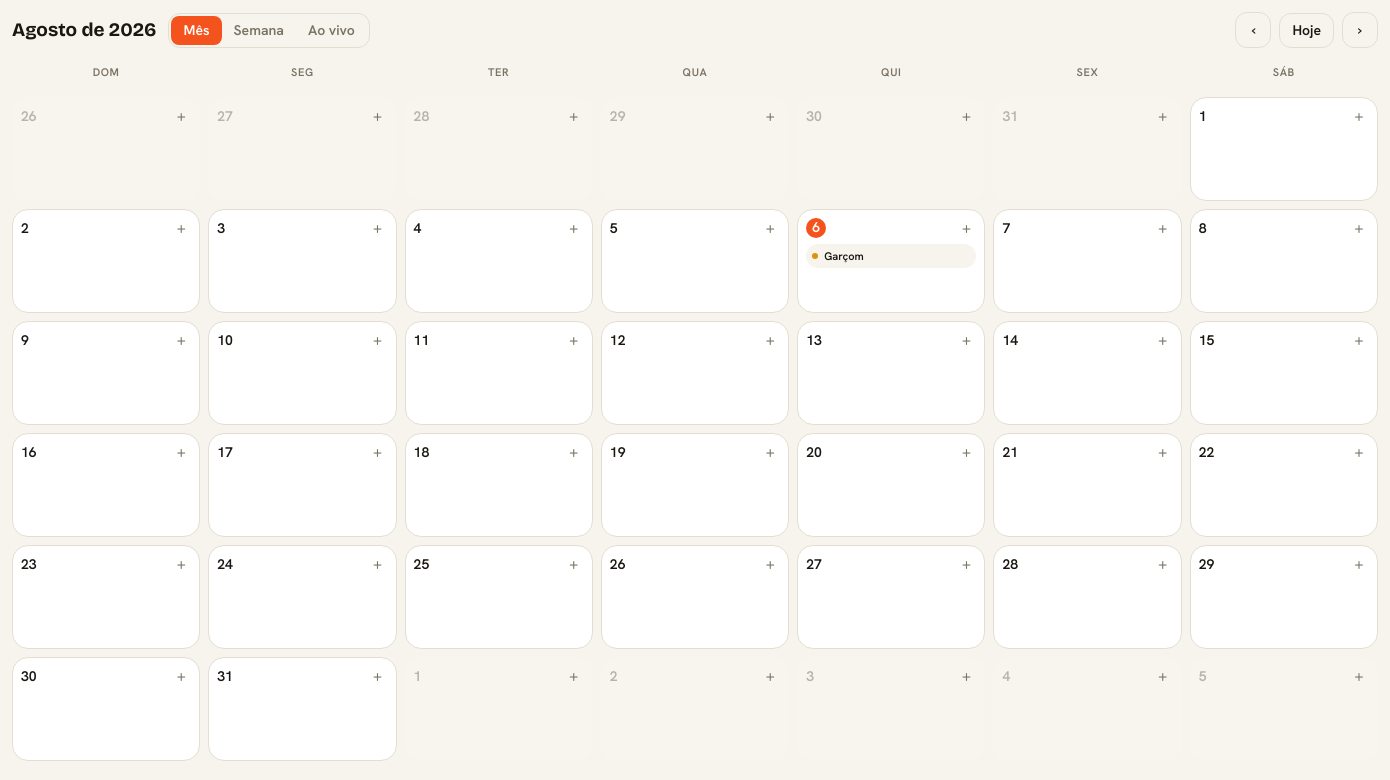
Test: EscalaPage › reseta o checkbox de termos ao cancelar, mesmo tendo marcado antes
Expected: the heading "Agosto de 2026" is shown, [12,16,156,44]
Click the button "Semana" at (259, 30), box [222,16,296,44]
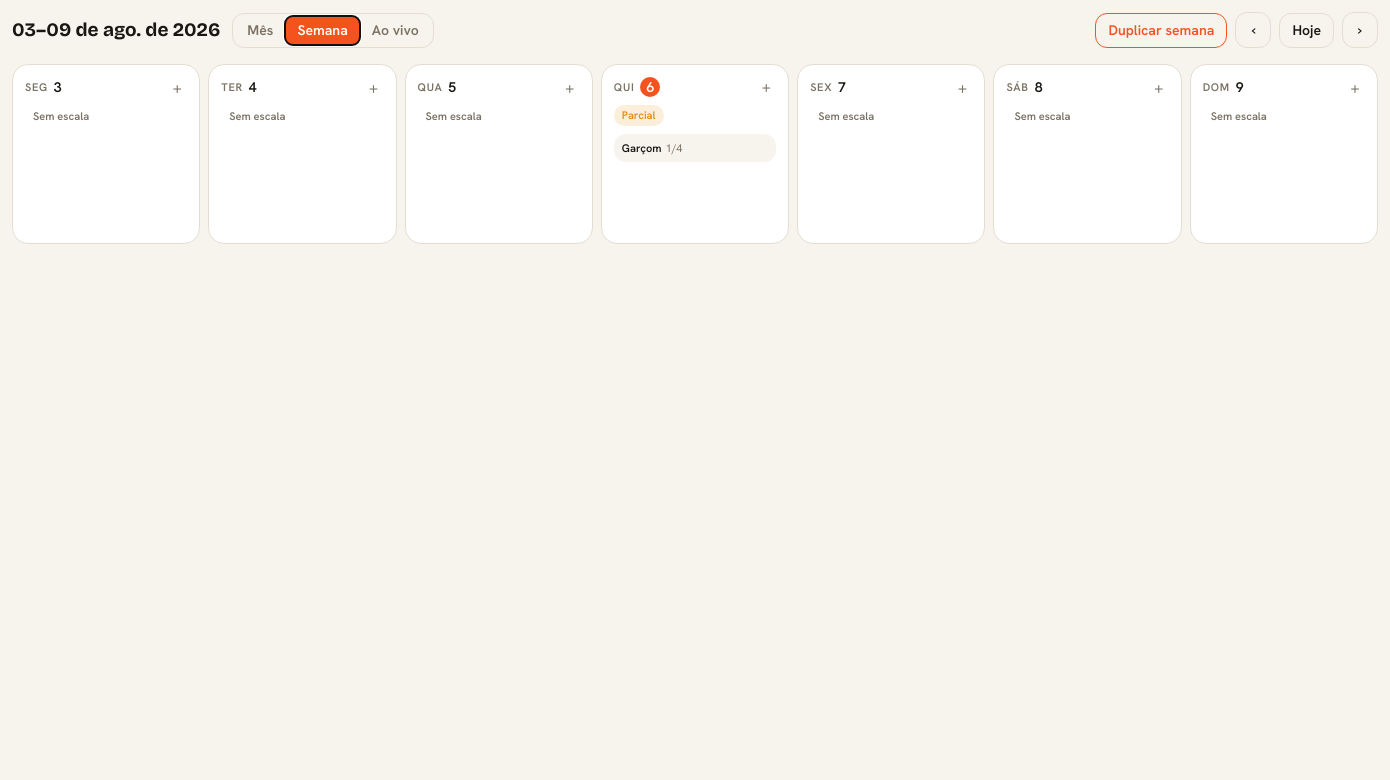
Click the button "Duplicar semana" at (1162, 30), box [1096,12,1228,48]
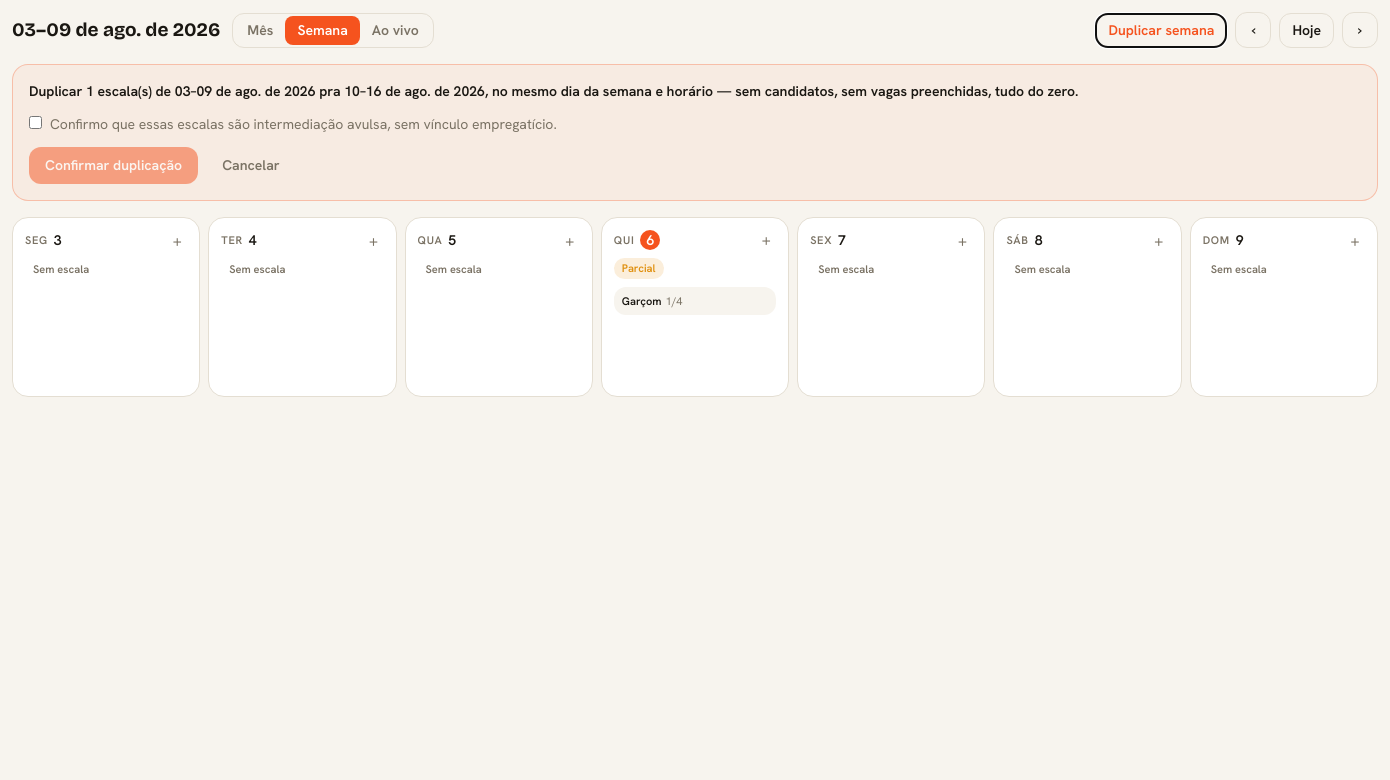
Click the checkbox at (36, 122), box [29,116,42,129]
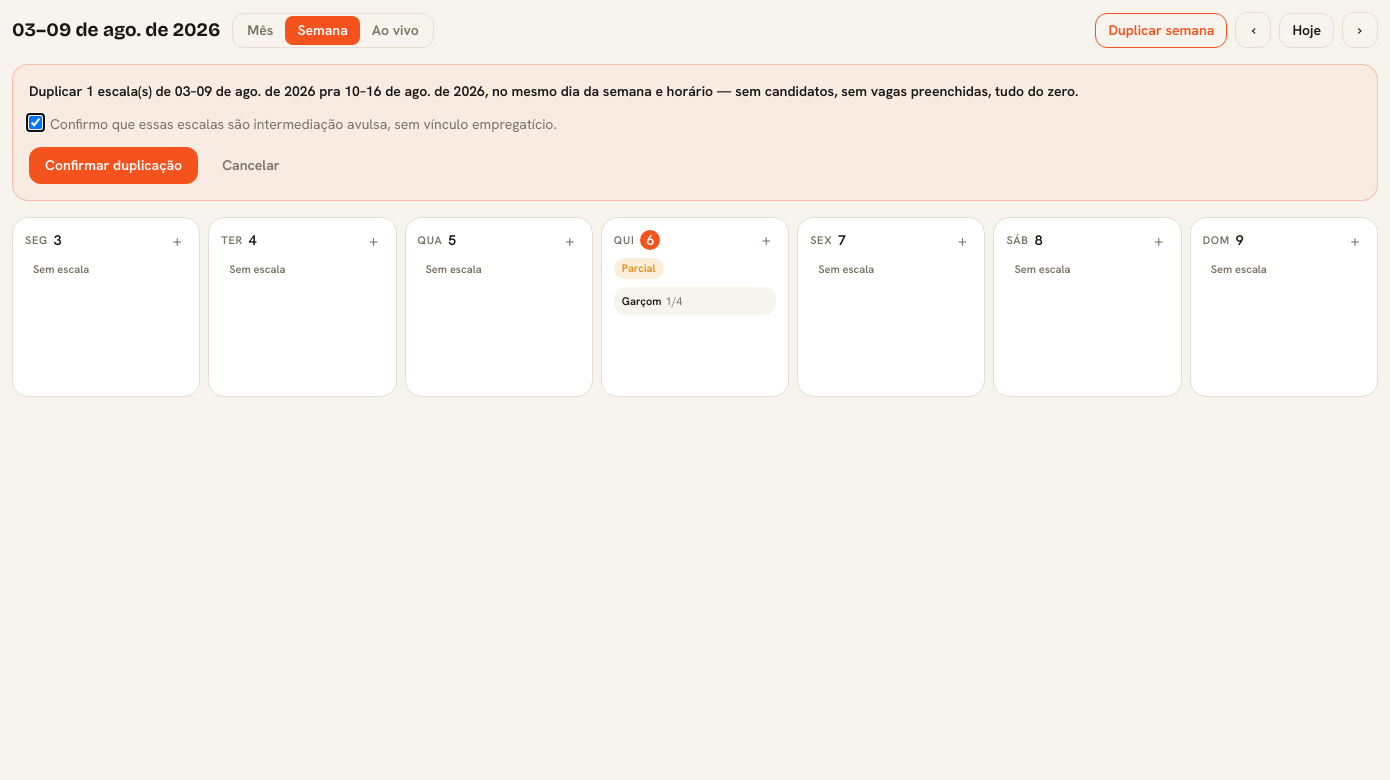
Click the button "Cancelar" at (251, 166), box [206,147,296,184]
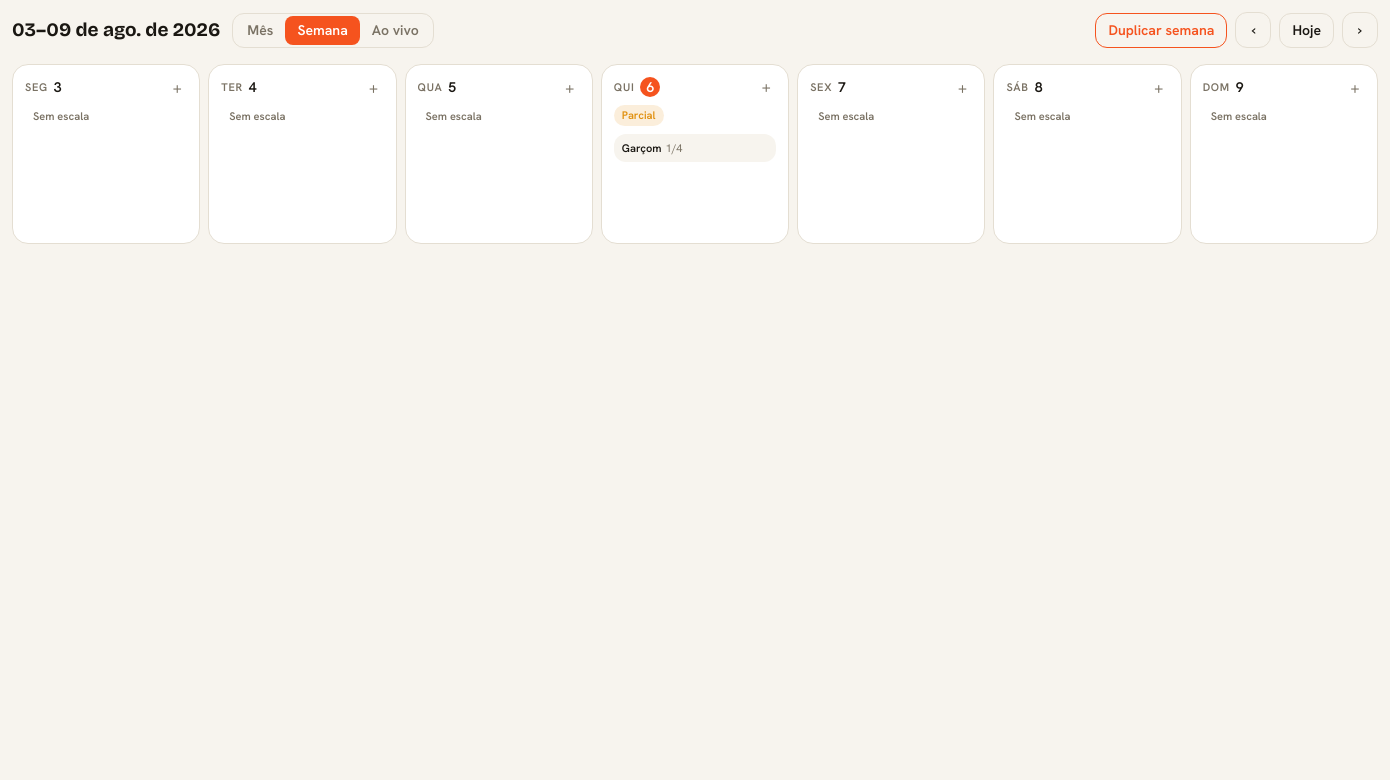
Click the button "Duplicar semana" at (1162, 30), box [1096,12,1228,48]
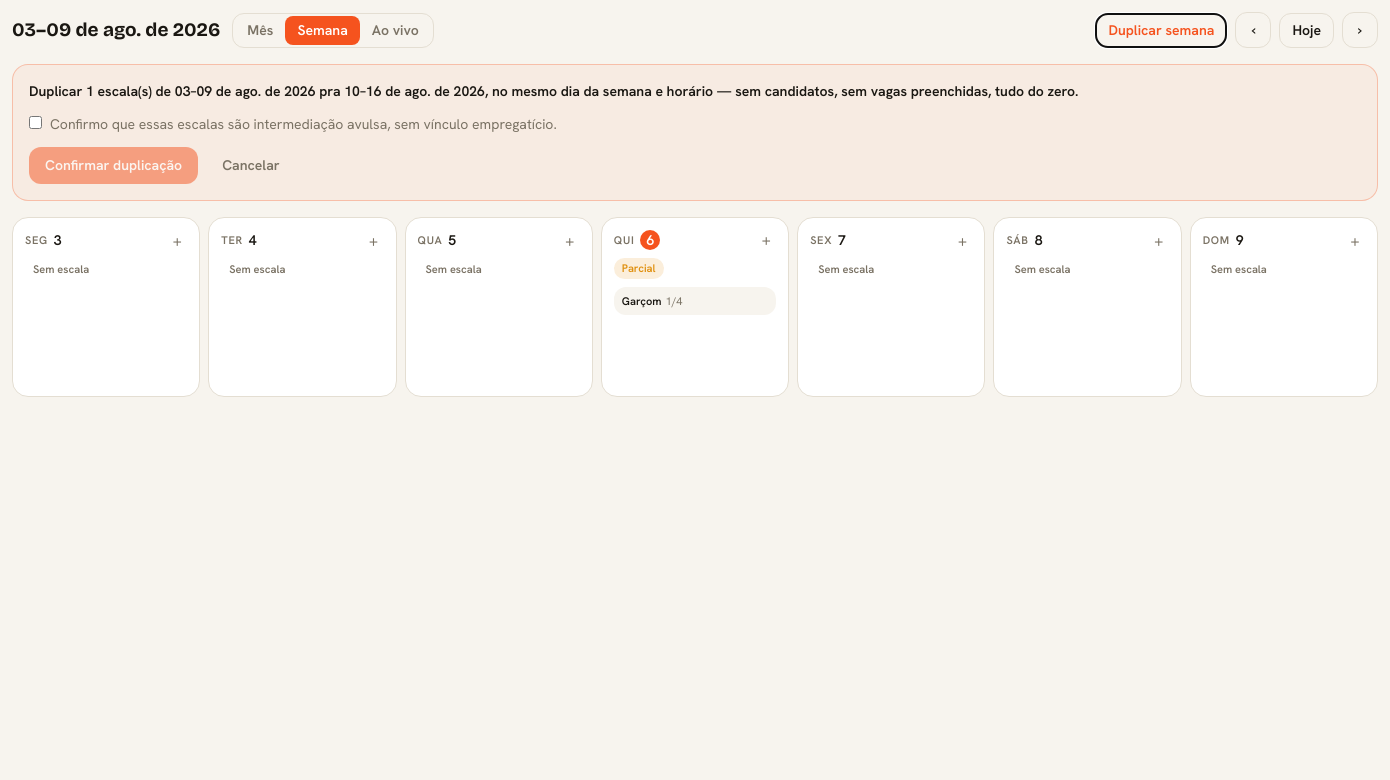
Expected: the checkbox is not checked, [29,116,42,129]
